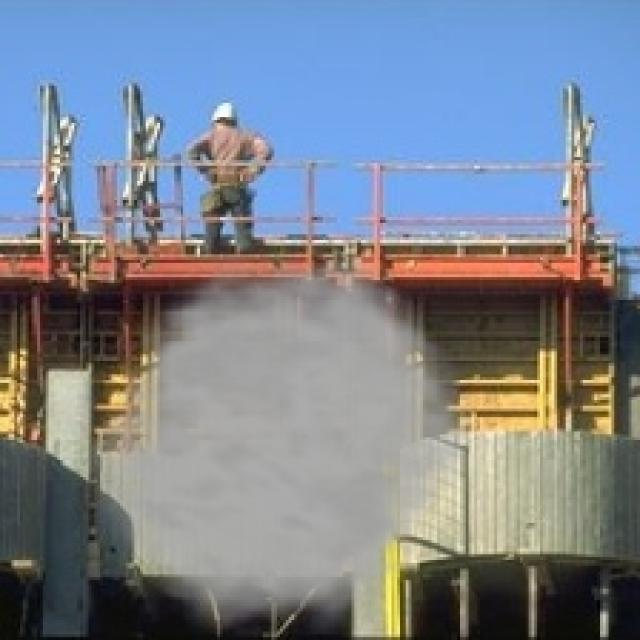smoke: (74, 240, 483, 634)
